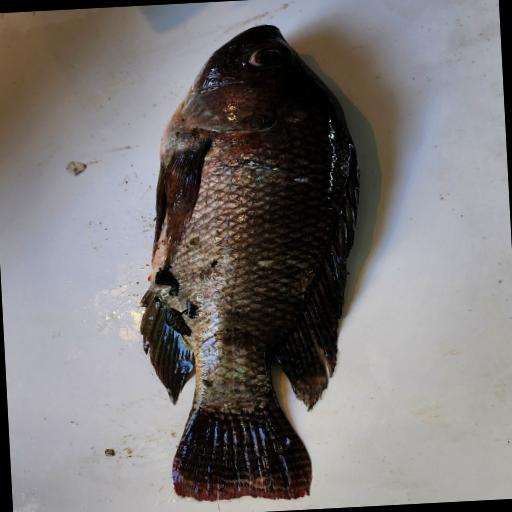Tilapia: (125, 21, 378, 508)
